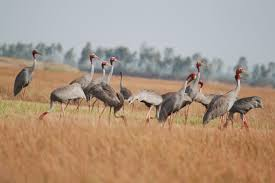seu_dau_do: (201, 66, 246, 127), (158, 72, 197, 131), (64, 51, 98, 106), (37, 84, 86, 121), (10, 49, 42, 101), (181, 60, 204, 115), (117, 70, 135, 108)
